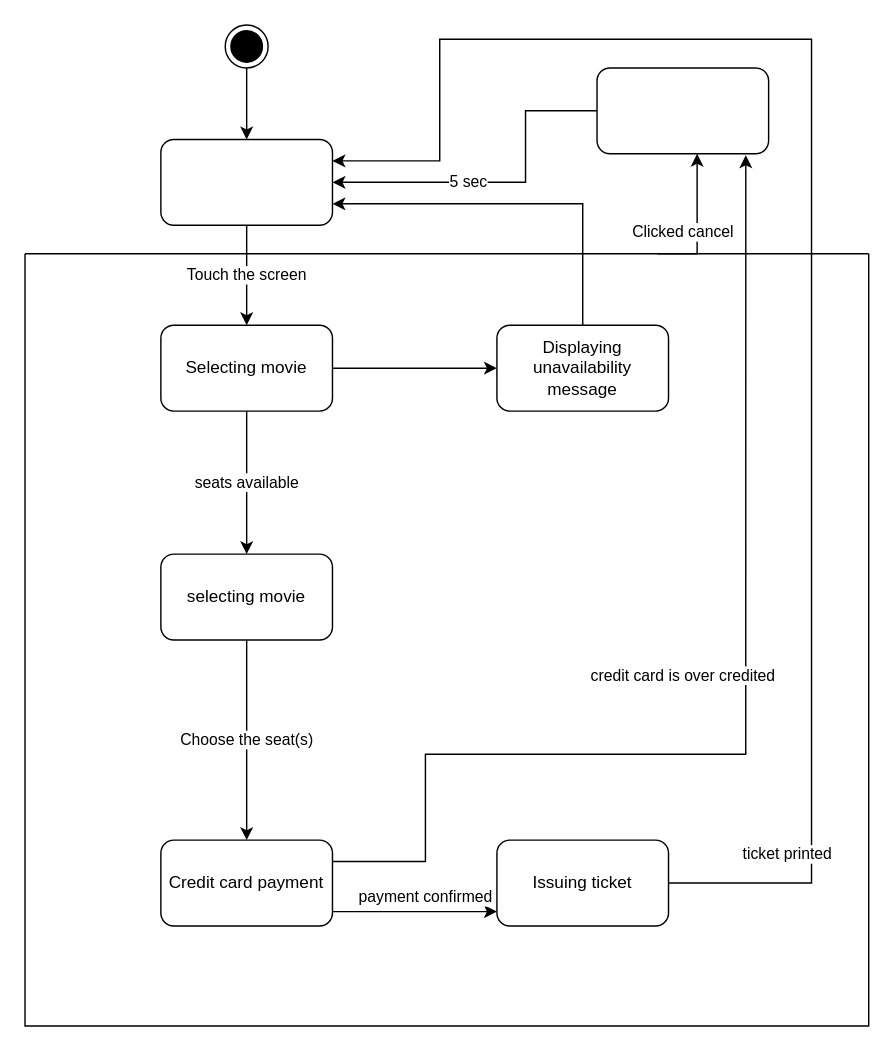
Image size: 894x1051. Some labels were removed from this diagram. The shapes that lost their labels are listed below. From the top down, each one's centre as x and y in pixels, then its label:
At point 682,110: "waiting to return to greeting screen".
At point 245,181: "Greeting screen".
